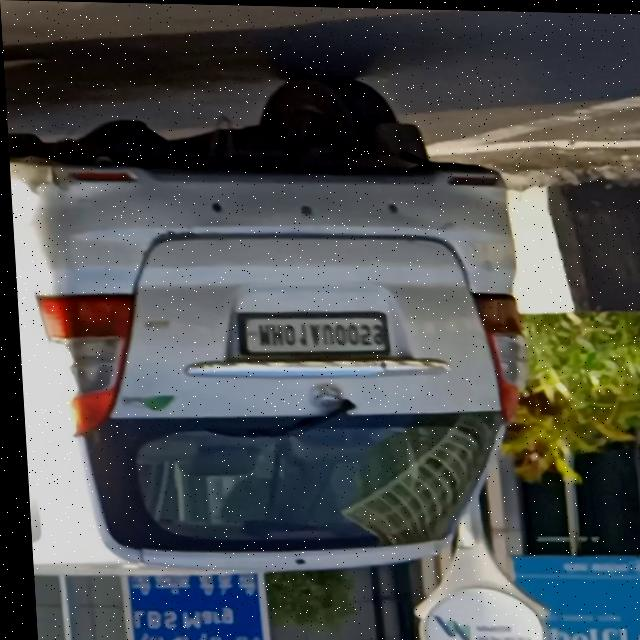plate: (232, 307, 390, 360)
